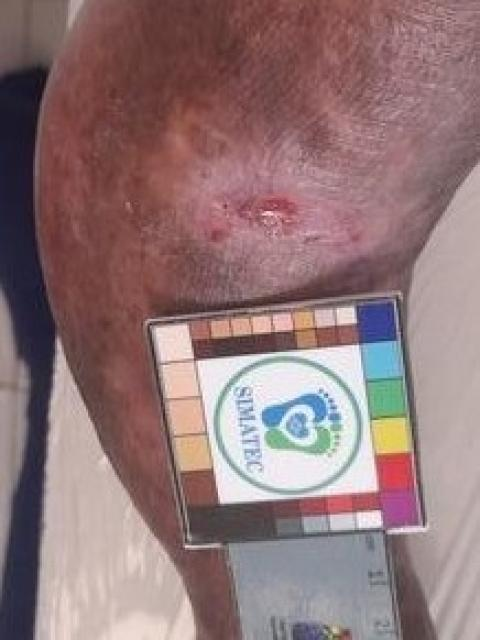wound: (209, 185, 308, 246)
